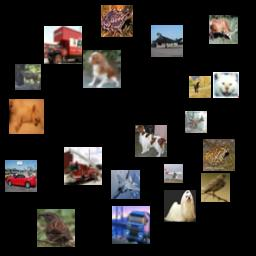airplane: (151, 25, 183, 57), (111, 170, 140, 199), (164, 164, 183, 183)
automobile: (5, 160, 37, 192)
bird: (37, 209, 75, 247), (201, 173, 230, 202)
cat: (213, 72, 239, 98)
deer: (209, 15, 238, 44), (15, 64, 41, 90), (185, 111, 207, 133)
dog: (83, 50, 121, 88), (9, 99, 44, 134), (164, 190, 196, 222), (135, 125, 167, 157)
frog: (203, 139, 235, 171), (101, 5, 133, 37)
truck: (64, 147, 102, 185), (44, 26, 82, 64), (112, 206, 150, 244)
